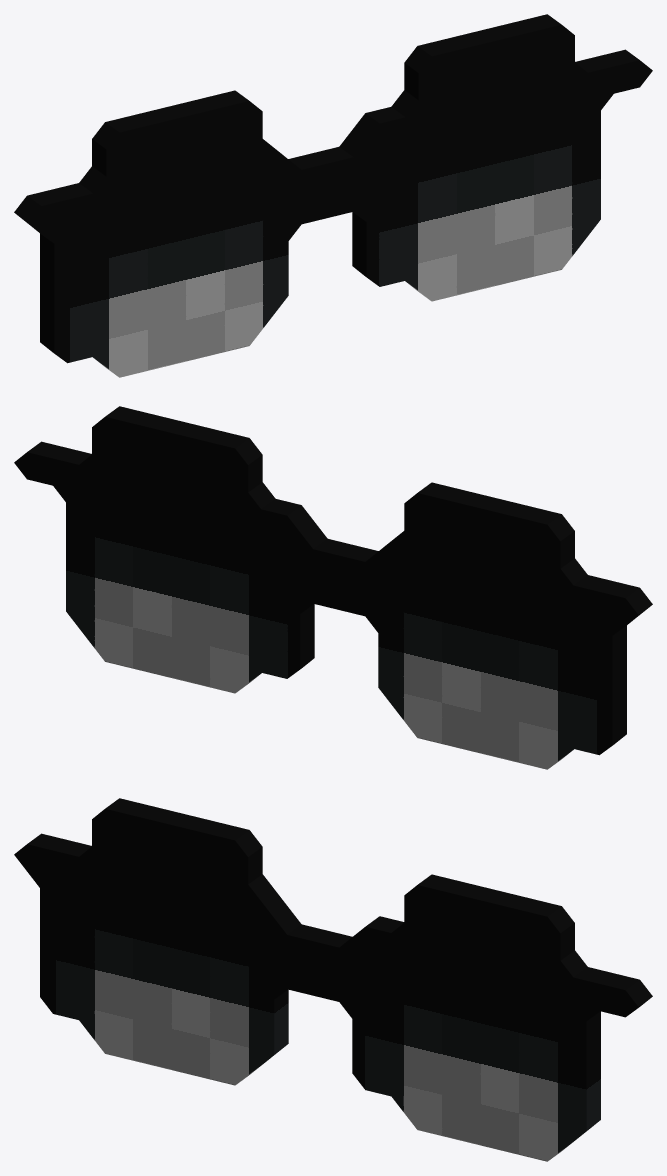
The model's file is facial_glasses_round.glb.
3 renders of one model, top to bottom at view 1: azimuth 30°, elevation 25°; view 2: azimuth 150°, elevation 25°; view 3: azimuth 330°, elevation 25°, orthographic.
Parts seen in each view (by area): view 1: world; view 2: world; view 3: world.
Boxes of the visible parts, x1=… form: world: x1=14, y1=14, x2=652, y2=377; world: x1=14, y1=406, x2=652, y2=769; world: x1=14, y1=798, x2=652, y2=1161.
Bounding box in the file's own units: 1.33 × 0.5 × 0.0533.
Materials: 1 (1 with a texture image).
